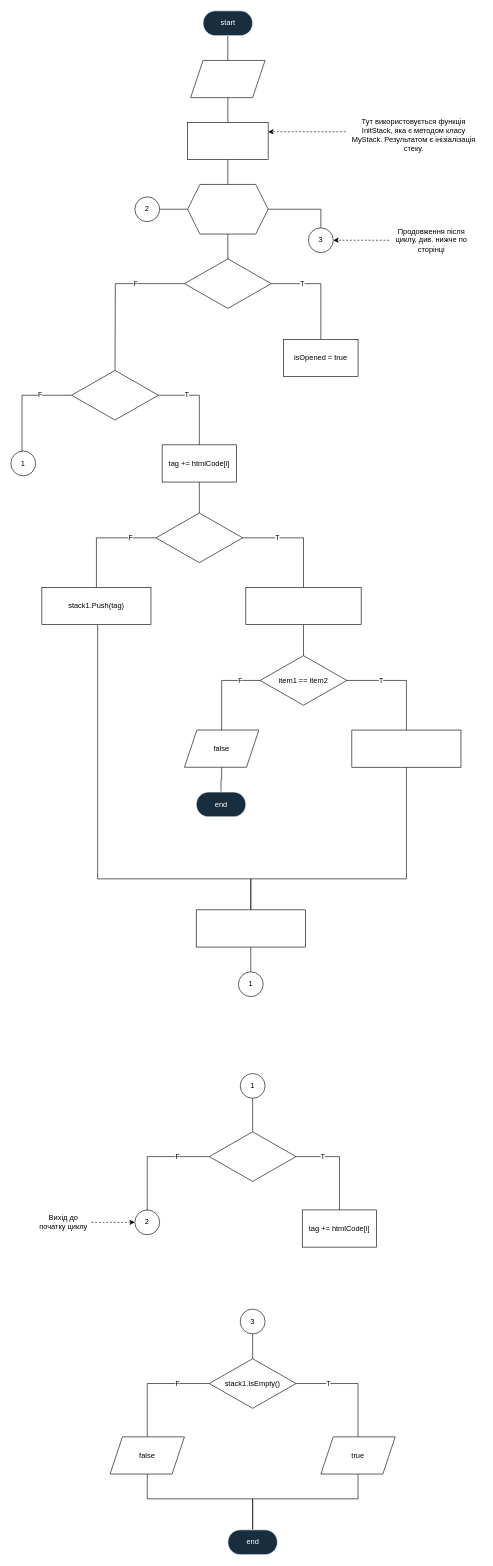
The diagram is 493 pixels wide and 1566 high, and some of its shapes have lost their labels. Each missing label, with the centre of its shape:
htmlCode[i] = '<': point (227, 283)
htmlCode[i] = '>': point (114, 395)
int i = 0, i < htmlCode.Length, i++: point (227, 209)
isOpened: point (252, 1156)
stack1 = InitStack() bool isOpened = false string tag = "": point (227, 141)
stack1.Pop(): point (406, 748)
string htmlCode: point (227, 79)
string item1 = stack1.Peek() string item2 = tag.Replace("/", ""): point (303, 606)
tag = "" isOpened = false: point (250, 928)
tag.Contains('/'): point (199, 537)
